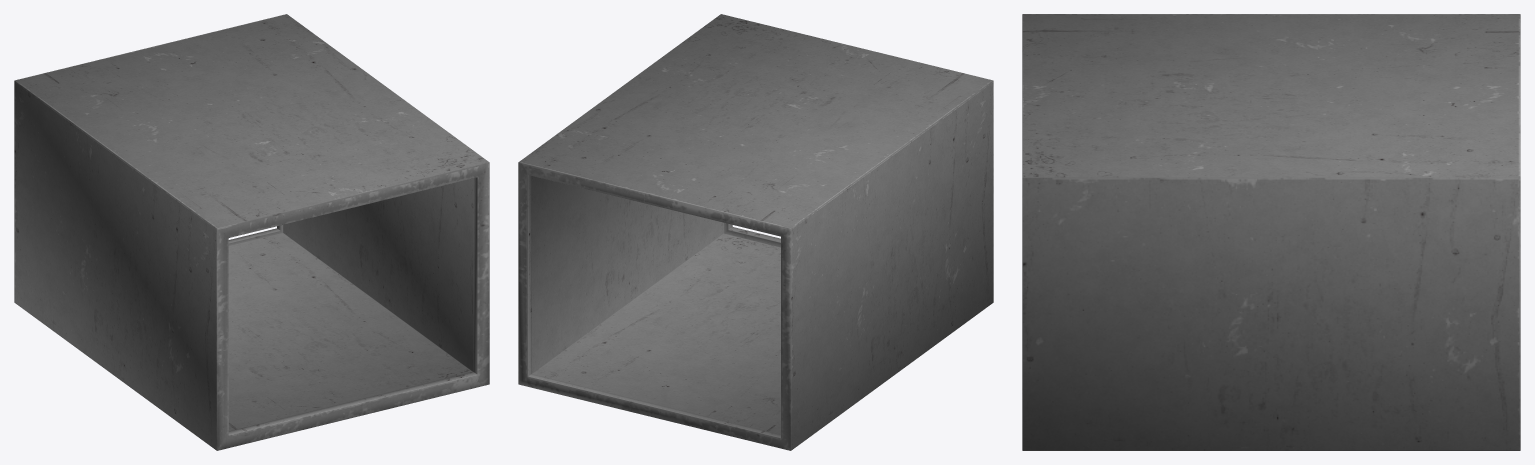
File: airvent_02.gltf
The picture shows the model from 3 angles, left to right: view 1: azimuth 30°, elevation 25°; view 2: azimuth 150°, elevation 25°; view 3: azimuth 270°, elevation 25°; orthographic projection. The views are drawn at different scales.
Visible parts, largest first — view 1: airvent_02; view 2: airvent_02; view 3: airvent_02.
Part boxes in pixels (box(x1,y1,x2,y2)): airvent_02: box(14, 14, 489, 450); airvent_02: box(518, 14, 993, 450); airvent_02: box(1022, 14, 1520, 450).
Bounding box in the file's own units: 0.7776 × 0.6063 × 1.
Materials: 1 (1 with a texture image).
